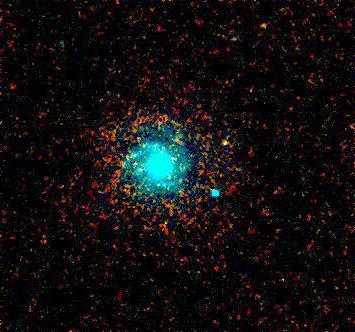star: (248, 13, 278, 43)
